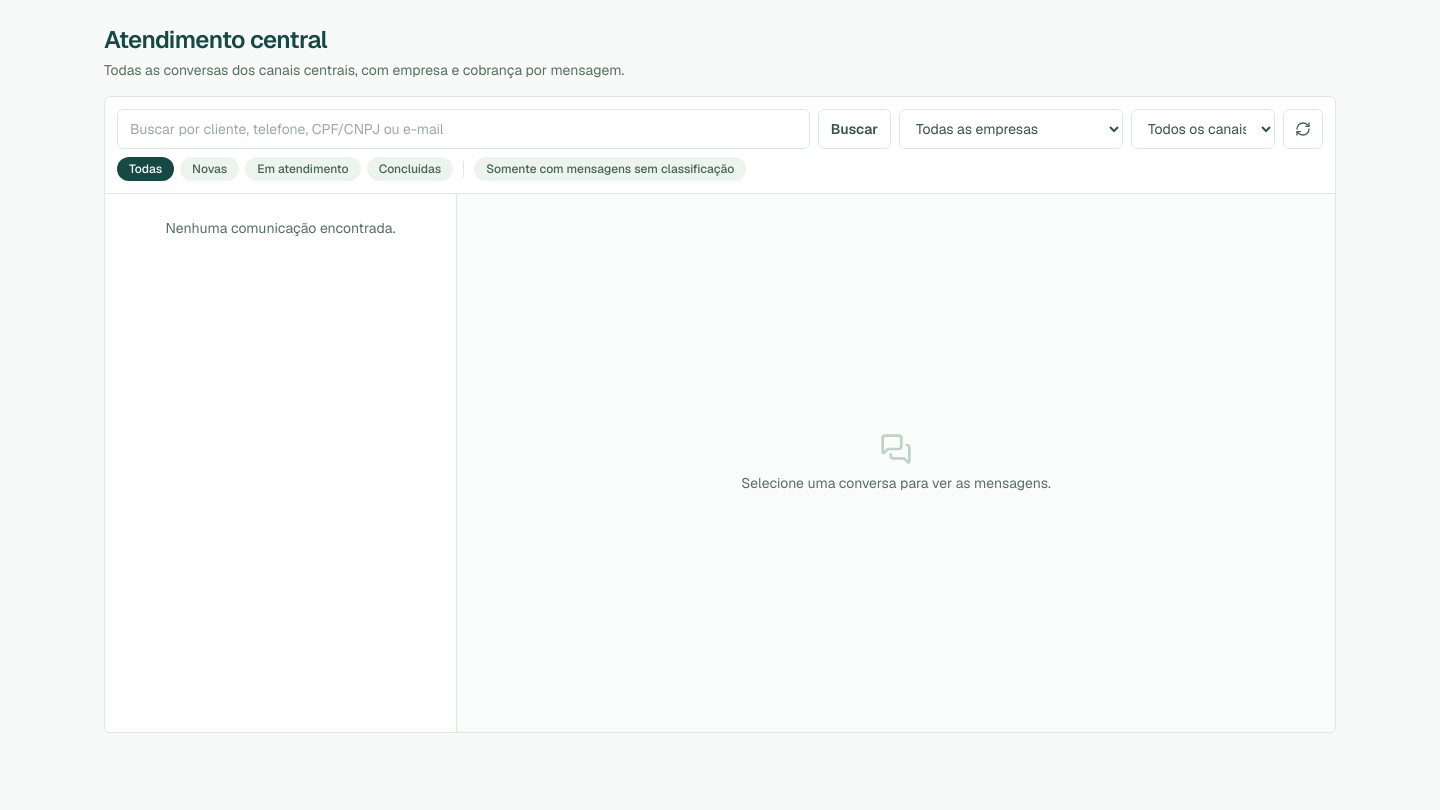
Test: CommunicationsHistory admin list › says when the filters match nothing
This screenshot has width=1440, height=810.
Type "ninguem" into the search field named "Buscar cliente ou telefone" at x=463, y=129, box [117,109,810,149]
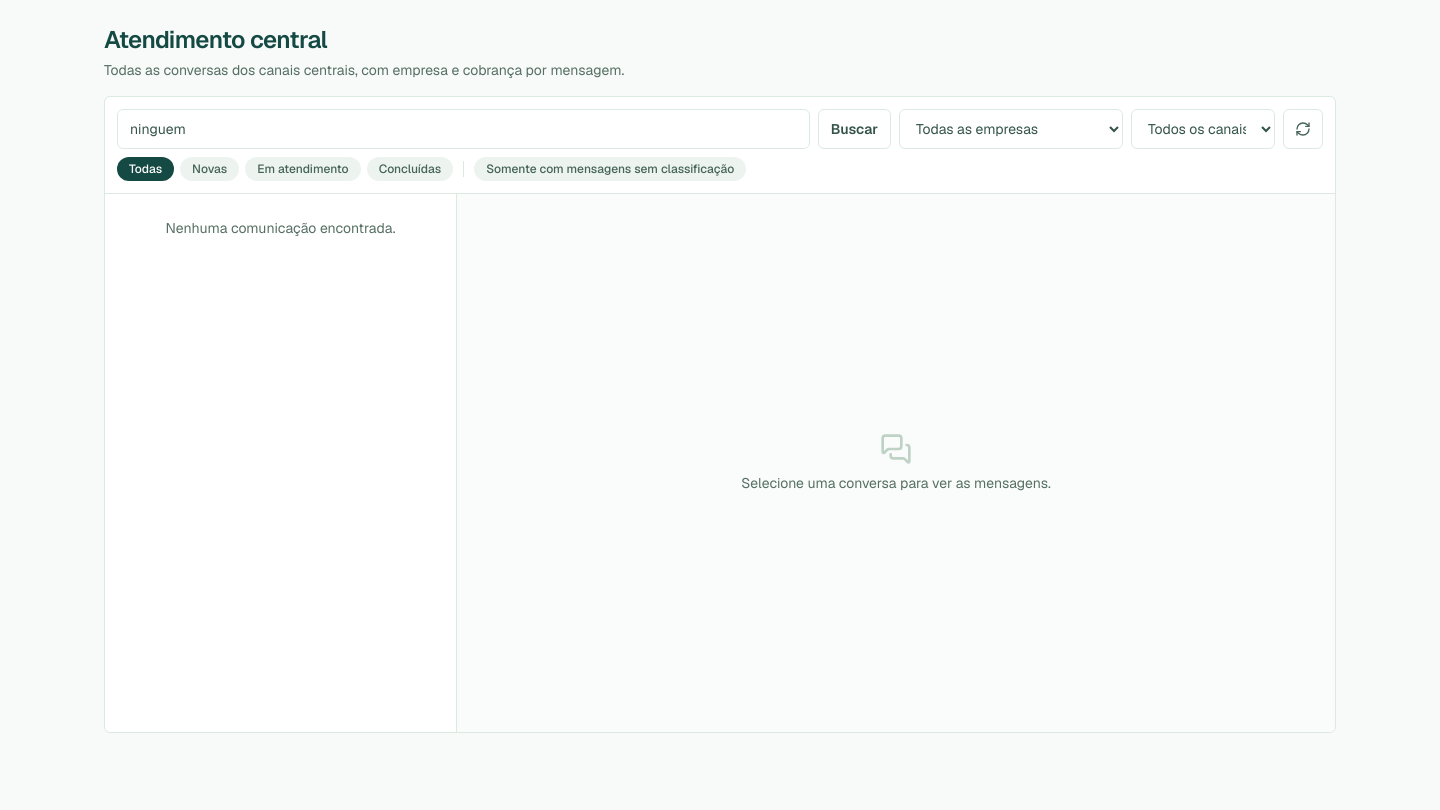
Click the button with aria-label "Buscar cliente ou telefone" at x=854, y=129, box [818,109,891,149]
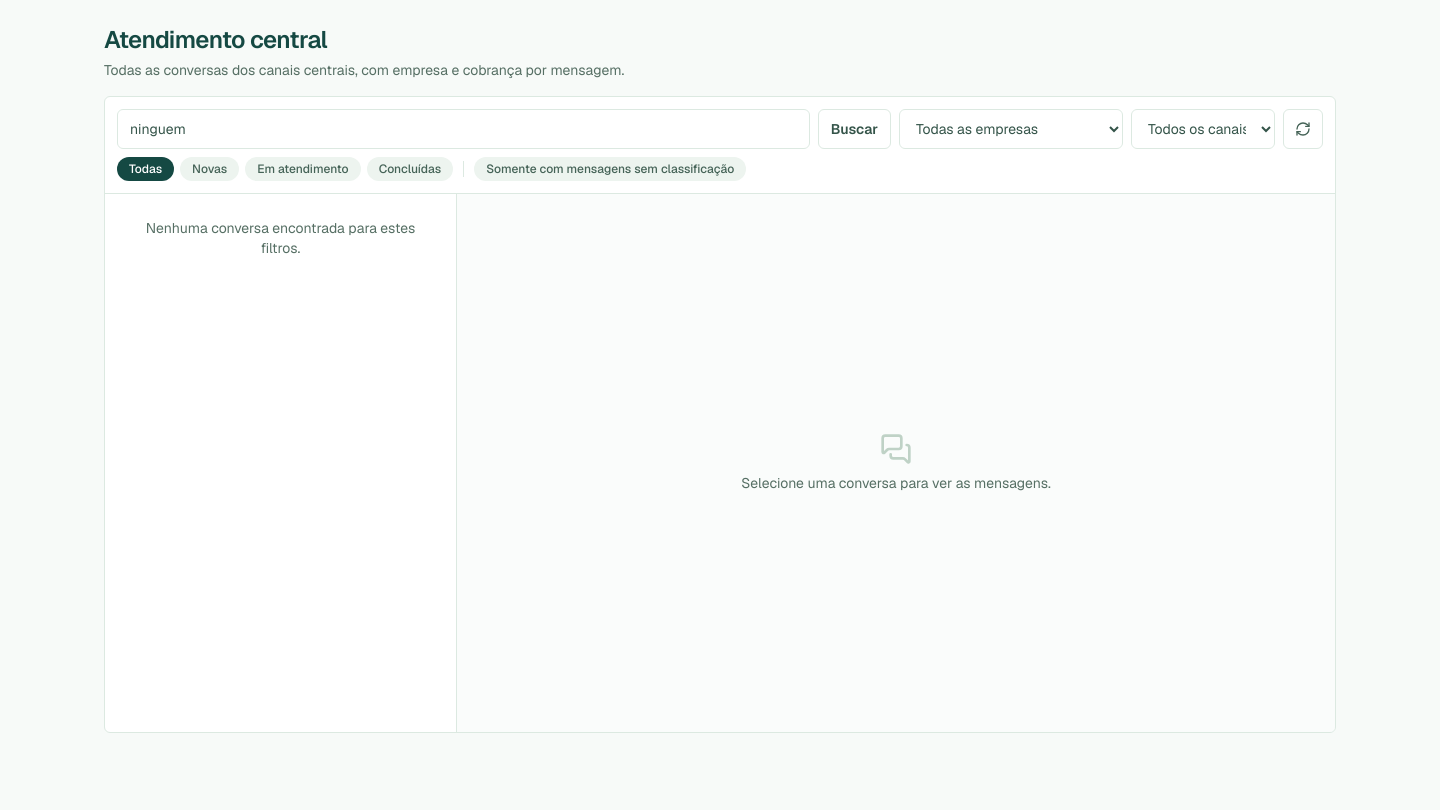
Now the text "Nenhuma conversa encontrada para estes filtros." is shown, box [146,219,415,257]
